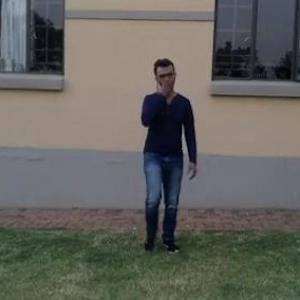follow: (134, 57, 192, 244)
